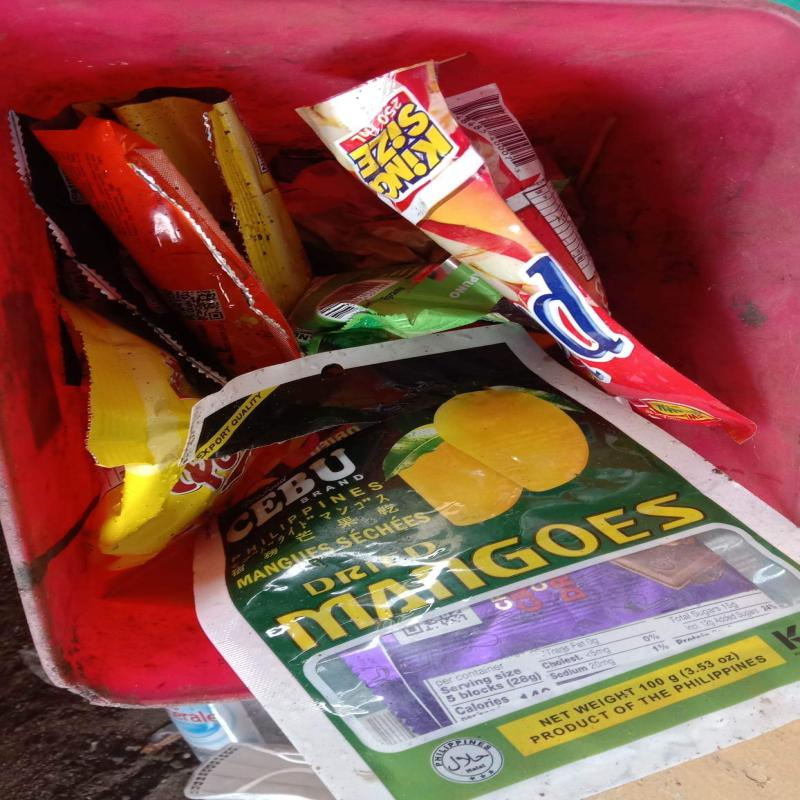food wrapper: (187, 323, 800, 800), (297, 65, 752, 445), (9, 113, 303, 399), (95, 91, 309, 311), (60, 298, 223, 546), (302, 266, 505, 355)
